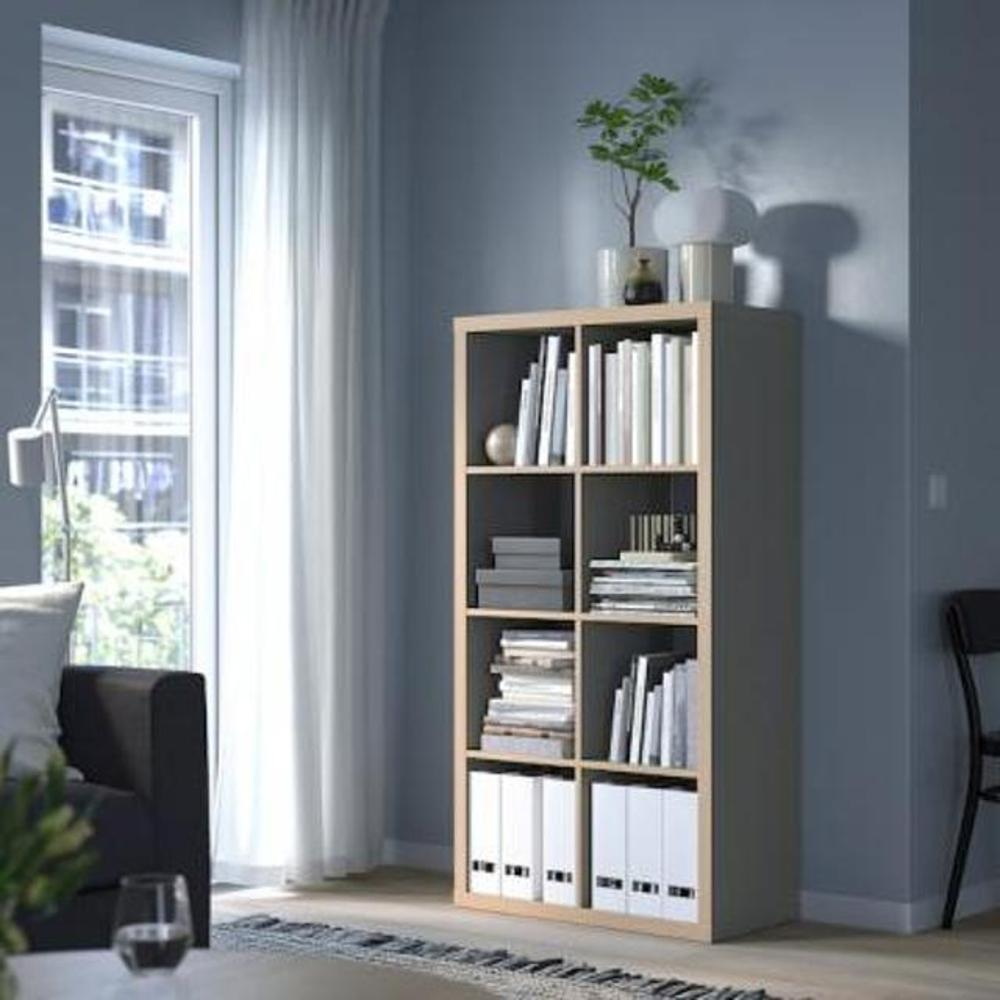lamp: (448, 300, 804, 950)
